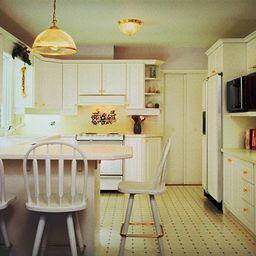Electrodomestico: (203, 78, 221, 210)
